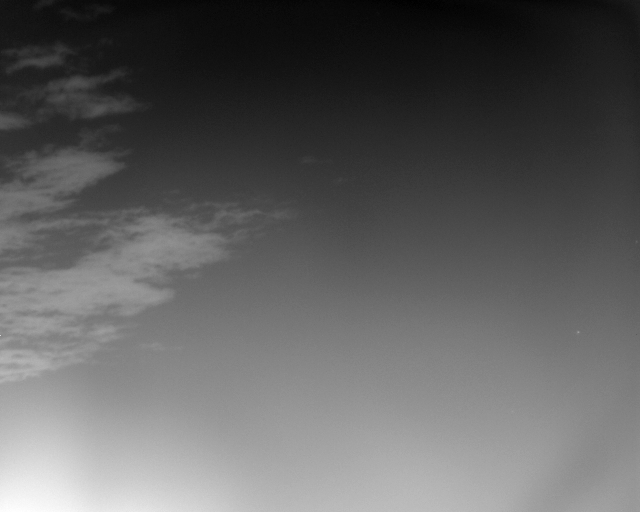Target: (578, 331, 582, 335)
